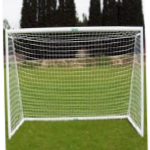goals: (3, 25, 146, 143)
